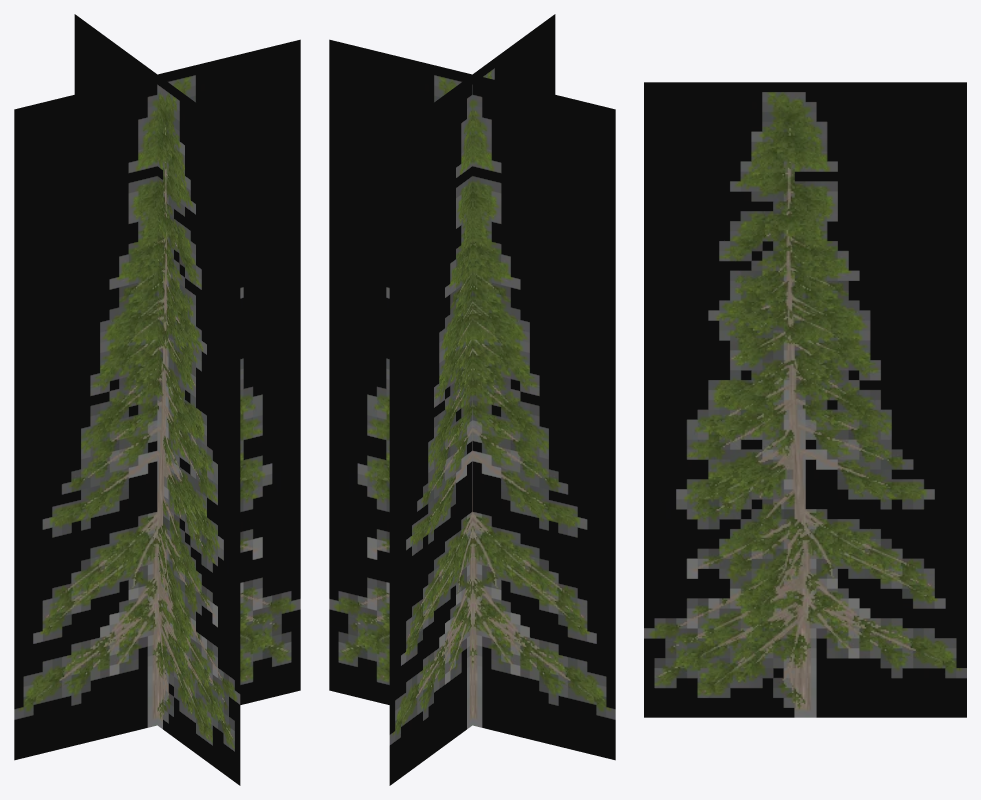
Rendered from pine_small_far.glb.
The picture shows the model from 3 angles, left to right: view 1: azimuth 30°, elevation 25°; view 2: azimuth 150°, elevation 25°; view 3: azimuth 270°, elevation 25°; orthographic projection. The views are drawn at different scales.
Visible parts, largest first — view 1: impostor; view 2: impostor; view 3: impostor.
Boxes of the visible parts, x1,y1,x2,y2 form: impostor: (14,14,300,785); impostor: (329,14,615,785); impostor: (644,82,966,717).
Size of the model in its own units: 2.76 by 6 by 2.76.
1 material, 1 textured.
